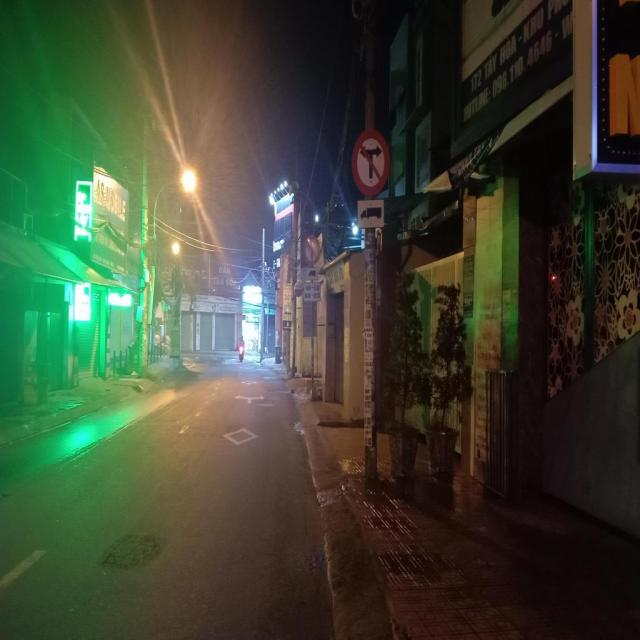cam_re_trai_va_phai: (351, 129, 391, 199), (305, 234, 321, 264)
khac: (358, 200, 384, 226), (304, 282, 320, 300), (306, 265, 318, 283)
